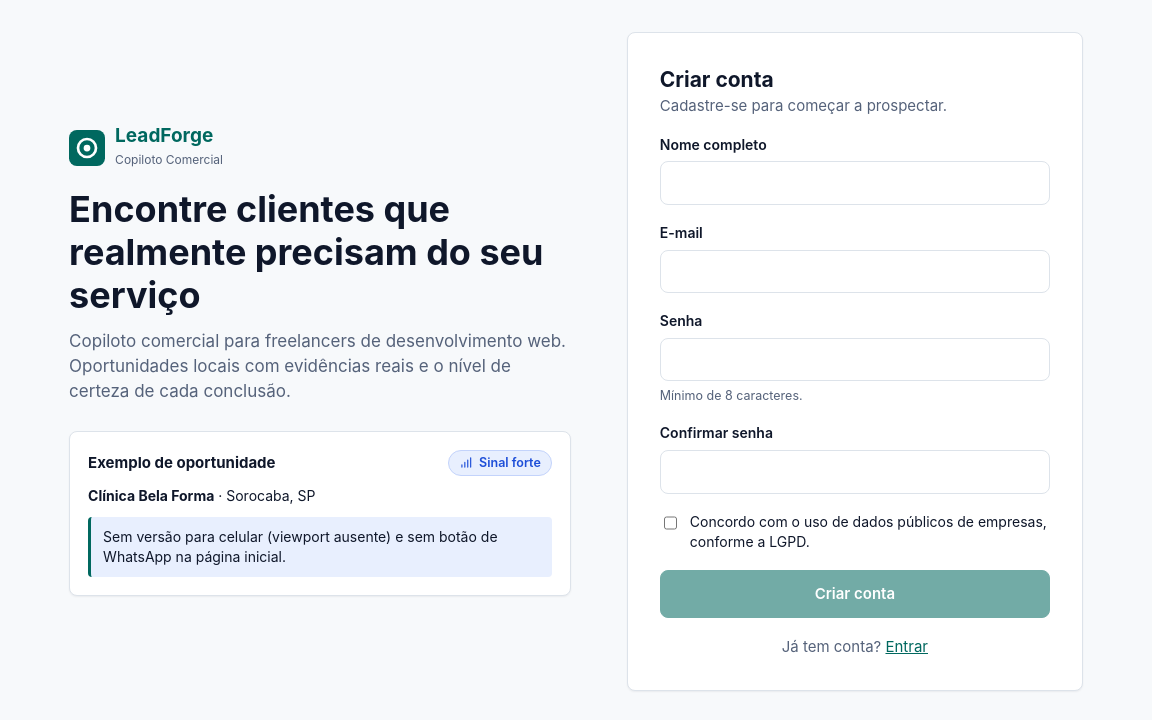
Test case: tela Criar conta › exige o aceite da LGPD para habilitar o cadastro
Type "Lucas Almeida" into the field labelled "Nome completo". click: (855, 183)
box: x1=660 y1=162 x2=1050 y2=205
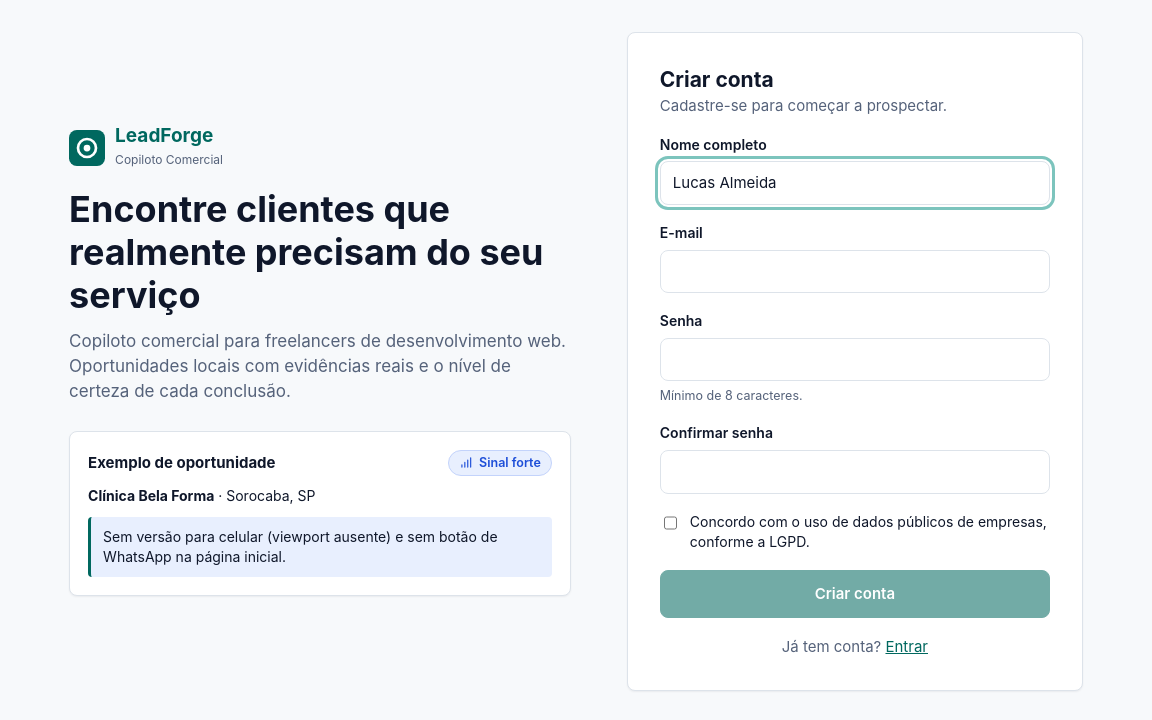
Type "lucas@exemplo.com" into the field labelled "E-mail". click: (855, 271)
box: x1=660 y1=250 x2=1050 y2=293
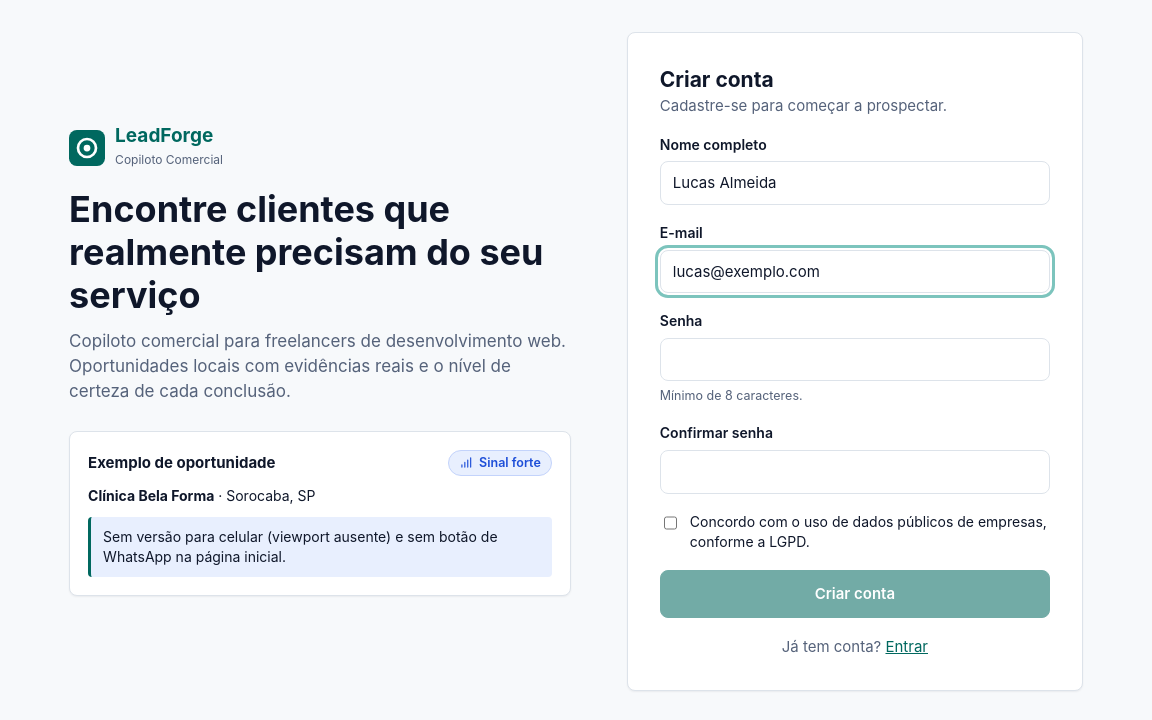
Type "senha-forte-1" into the password field labelled "Senha". click: (855, 360)
box: x1=660 y1=338 x2=1050 y2=381
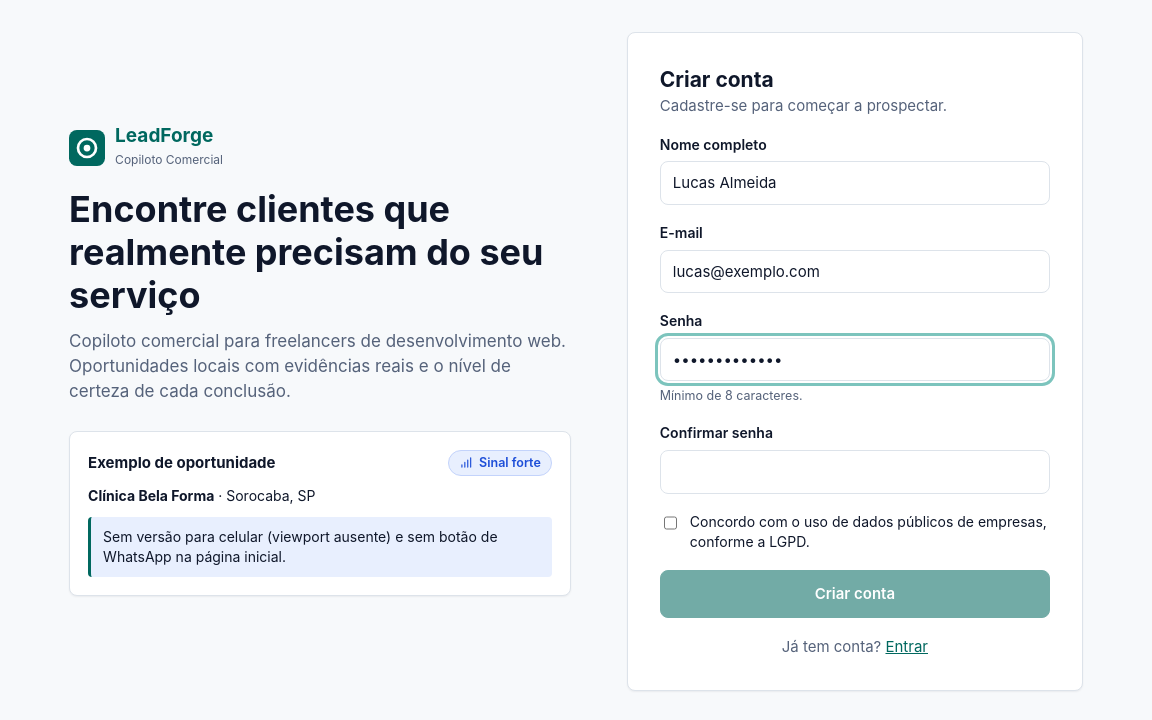
Type "senha-forte-1" into the password field labelled "Confirmar senha". click: (855, 472)
box: x1=660 y1=450 x2=1050 y2=494
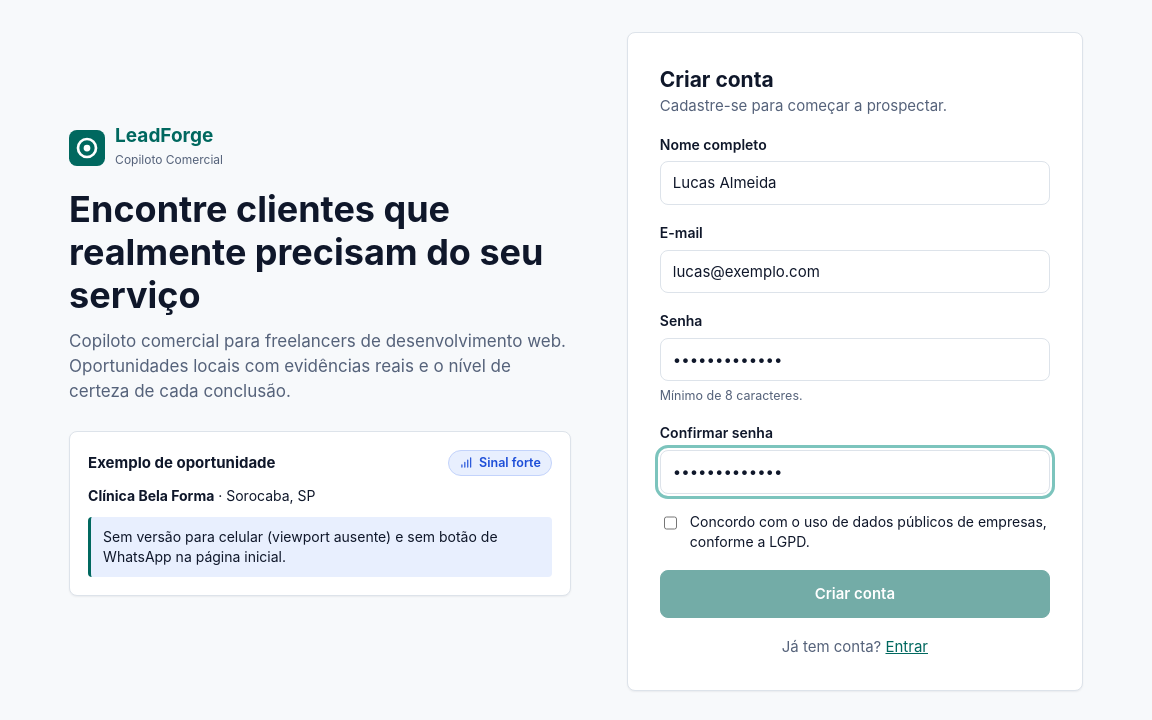
Expected: the button "Criar conta" is disabled, x1=660 y1=570 x2=1050 y2=618
Click the checkbox. click: (670, 522)
box: x1=664 y1=514 x2=677 y2=530
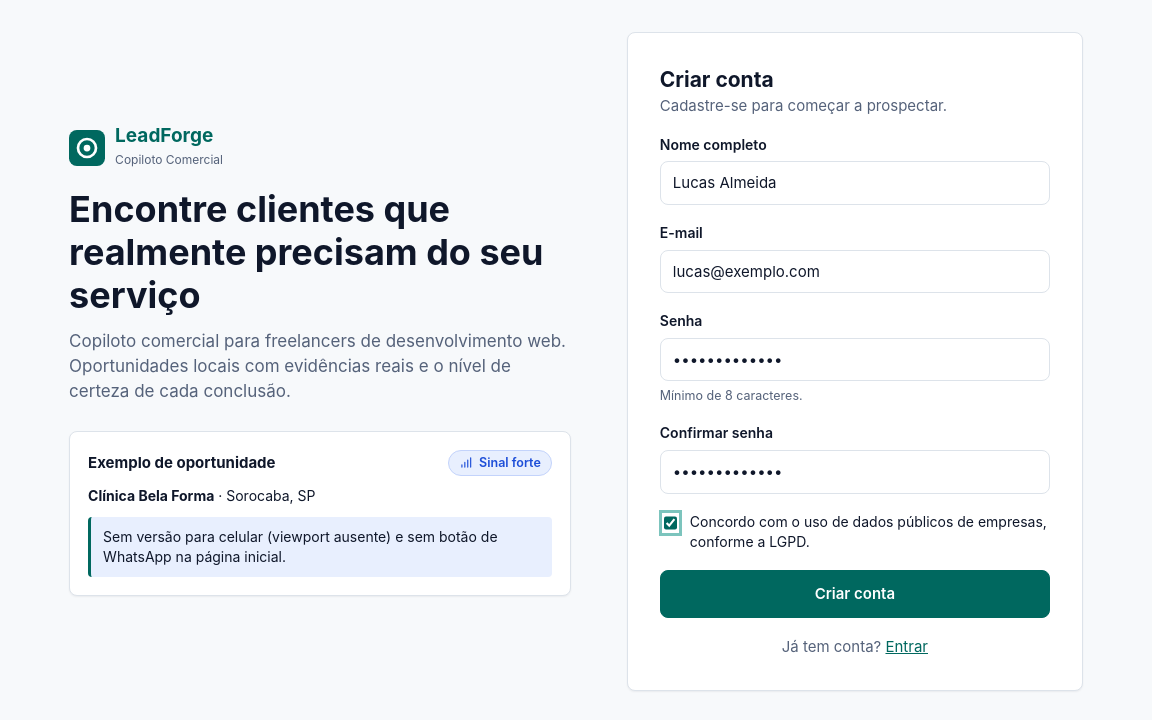
Now the button "Criar conta" is enabled, box x1=660 y1=570 x2=1050 y2=618
